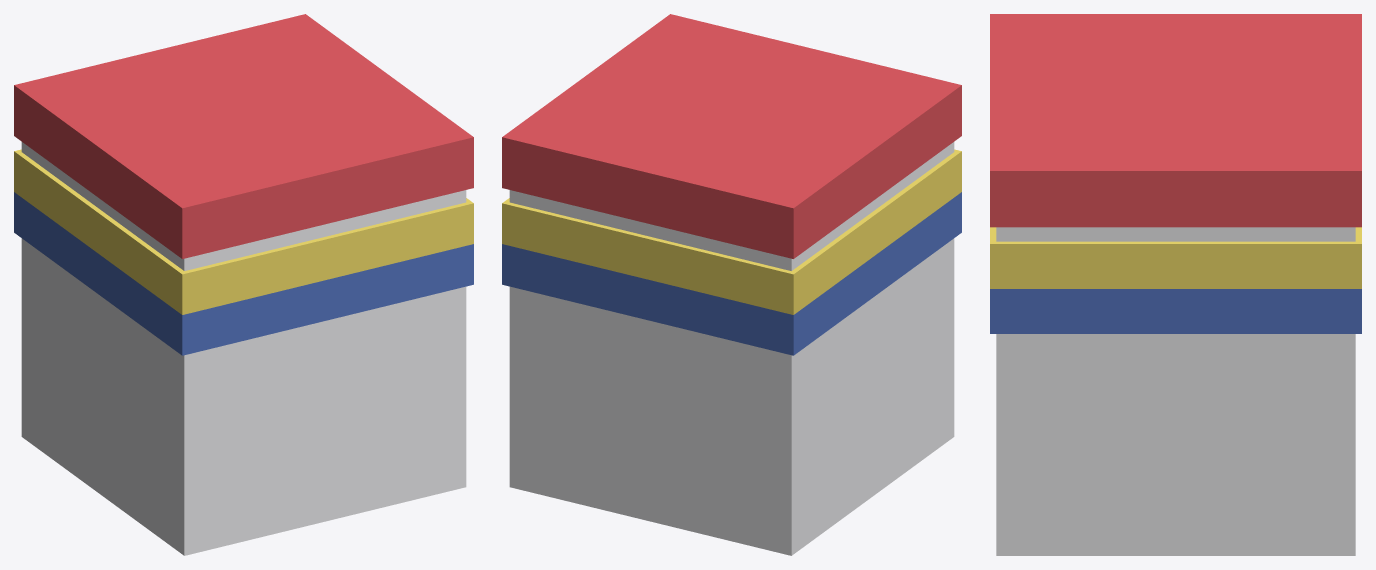
The model's file is piloto_manga_sup.glb.
The picture shows the model from 3 angles, left to right: view 1: azimuth 30°, elevation 25°; view 2: azimuth 150°, elevation 25°; view 3: azimuth 270°, elevation 25°; orthographic projection. The views are drawn at different scales.
Parts seen in each view (by area): view 1: piloto_manga_sup; view 2: piloto_manga_sup; view 3: piloto_manga_sup.
Part boxes in pixels (x1,y1,x2,y2): piloto_manga_sup: [14, 14, 473, 555]; piloto_manga_sup: [502, 14, 961, 555]; piloto_manga_sup: [990, 14, 1361, 555].
Size of the model in its own units: 0.3 by 0.345 by 0.3.
